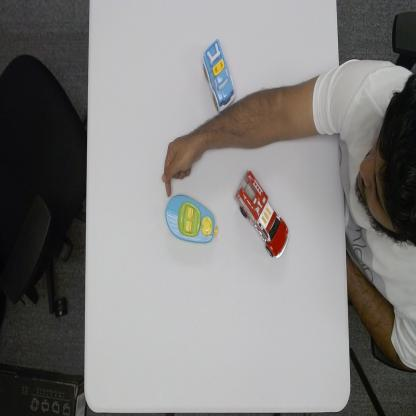Arm: (201, 88, 335, 150)
Boat: (165, 193, 219, 245)
Car: (201, 35, 237, 115)
Firetruck: (233, 170, 291, 261)
Hand: (162, 129, 201, 195)
